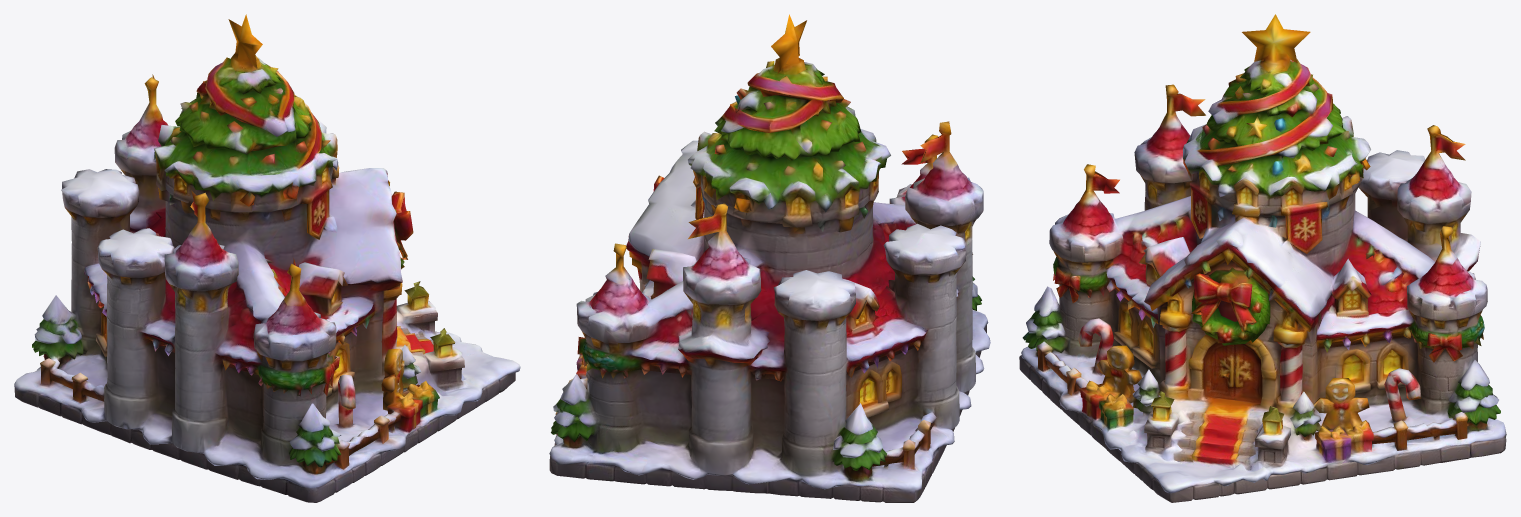
File: th_xmas.glb
3 renders of one model, left to right at view 1: azimuth 30°, elevation 25°; view 2: azimuth 150°, elevation 25°; view 3: azimuth 270°, elevation 25°, orthographic. The views are drawn at different scales.
Parts seen in each view (by area): view 1: tripo_node_f72ef6cb-cea1-40a1-948f-83212731fae3; view 2: tripo_node_f72ef6cb-cea1-40a1-948f-83212731fae3; view 3: tripo_node_f72ef6cb-cea1-40a1-948f-83212731fae3.
Part boxes in pixels (box(x1,y1,x2,y2)): tripo_node_f72ef6cb-cea1-40a1-948f-83212731fae3: box(14, 14, 520, 502); tripo_node_f72ef6cb-cea1-40a1-948f-83212731fae3: box(549, 14, 990, 502); tripo_node_f72ef6cb-cea1-40a1-948f-83212731fae3: box(1019, 14, 1506, 502).
Size of the model in its own units: 0.9484 by 0.8687 by 1.
1 material, 1 textured.
